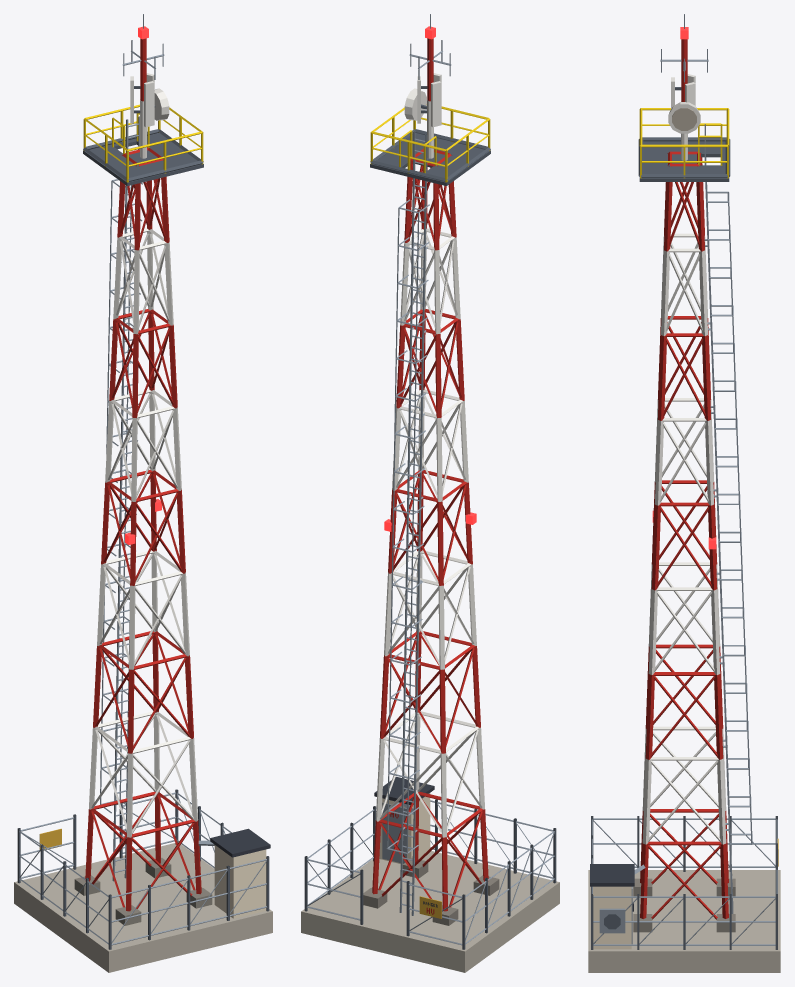
File: radio_mast.glb
3 views of the same model, side by side, from view 1: azimuth 30°, elevation 25°; view 2: azimuth 150°, elevation 25°; view 3: azimuth 270°, elevation 25° (orthographic).
Parts seen in each view (by area): view 1: Building, Building_Detail; view 2: Building, Building_Detail; view 3: Building, Building_Detail.
Part boxes in pixels (x1,y1,x2,y2): Building: (14, 133, 272, 972); Building_Detail: (17, 14, 269, 949); Building: (301, 133, 559, 972); Building_Detail: (304, 14, 556, 949); Building: (588, 141, 780, 972); Building_Detail: (591, 14, 778, 949).
Bounding box in the file's own units: 6 × 31.6 × 6.
